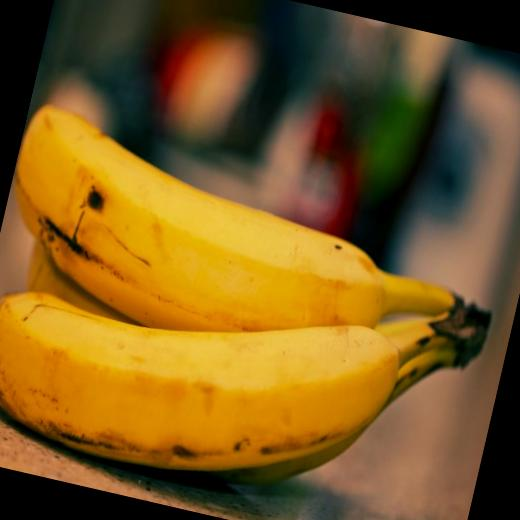Banana: (0, 100, 492, 397), (202, 315, 457, 520), (24, 244, 146, 321)
